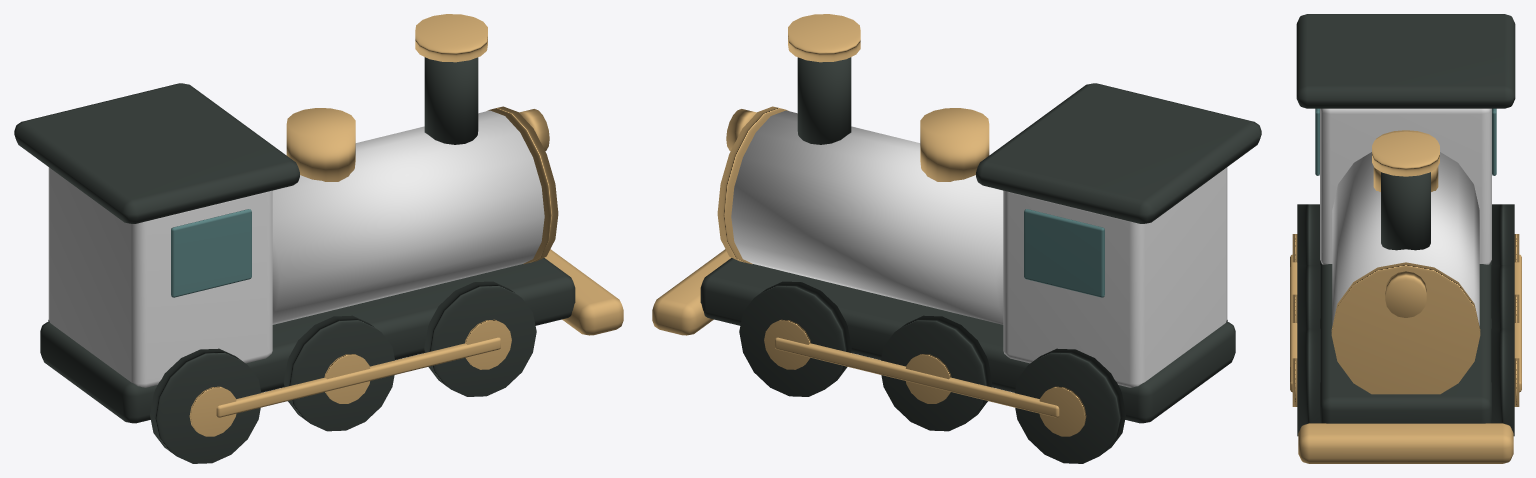
Rendered from locomotive.glb.
3 views of the same model, side by side, from view 1: azimuth 30°, elevation 25°; view 2: azimuth 150°, elevation 25°; view 3: azimuth 270°, elevation 25° (orthographic). The views are drawn at different scales.
Parts seen in each view (by area): view 1: Boiler, Cab, Cab roof, Chassis, Wheel, Wheel.004, Wheel.002, Window, Steam dome, Chimney, Connecting rod, Chimney rim (+5 smaller); view 2: Boiler, Cab, Cab roof, Chassis, Wheel.001, Wheel.005, Wheel.003, Window.001, Steam dome, Chimney, Connecting rod.001, Chimney rim (+5 smaller); view 3: Cab roof, Boiler cap, Boiler, Cab, Chassis, Front bumper, Chimney, Chimney rim, Wheel.004, Wheel.005, Headlamp, Wheel.002 (+10 smaller).
Part boxes in pixels (x1,y1,x2,y2): Boiler: [272, 110, 544, 324]; Cab: [48, 167, 272, 387]; Cab roof: [14, 83, 299, 223]; Chassis: [40, 258, 575, 423]; Wheel: [150, 348, 261, 463]; Wheel.004: [424, 281, 536, 396]; Wheel.002: [284, 315, 394, 431]; Window: [171, 209, 251, 297]; Steam dome: [286, 108, 355, 181]; Chimney: [424, 57, 478, 144]; Connecting rod: [216, 337, 500, 417]; Chimney rim: [415, 14, 487, 62]; Boiler: [731, 110, 1003, 324]; Cab: [1003, 167, 1227, 387]; Cab roof: [976, 83, 1261, 223]; Chassis: [700, 258, 1235, 423]; Wheel.001: [1014, 348, 1125, 463]; Wheel.005: [739, 281, 851, 396]; Wheel.003: [881, 315, 991, 431]; Window.001: [1024, 209, 1104, 297]; Steam dome: [920, 108, 989, 181]; Chimney: [797, 57, 851, 144]; Connecting rod.001: [775, 337, 1059, 417]; Chimney rim: [788, 14, 860, 62]; Cab roof: [1296, 14, 1515, 108]; Boiler cap: [1331, 262, 1480, 394]; Boiler: [1332, 152, 1479, 325]; Cab: [1320, 108, 1491, 264]; Chassis: [1320, 260, 1491, 423]; Front bumper: [1298, 423, 1513, 463]; Chimney: [1381, 172, 1430, 250]; Chimney rim: [1372, 131, 1439, 176]; Wheel.004: [1297, 328, 1320, 436]; Wheel.005: [1491, 328, 1514, 436]; Headlamp: [1385, 271, 1426, 317]; Wheel.002: [1297, 265, 1320, 328].
Size of the model in its own units: 1.5 by 0.91 by 0.646.
